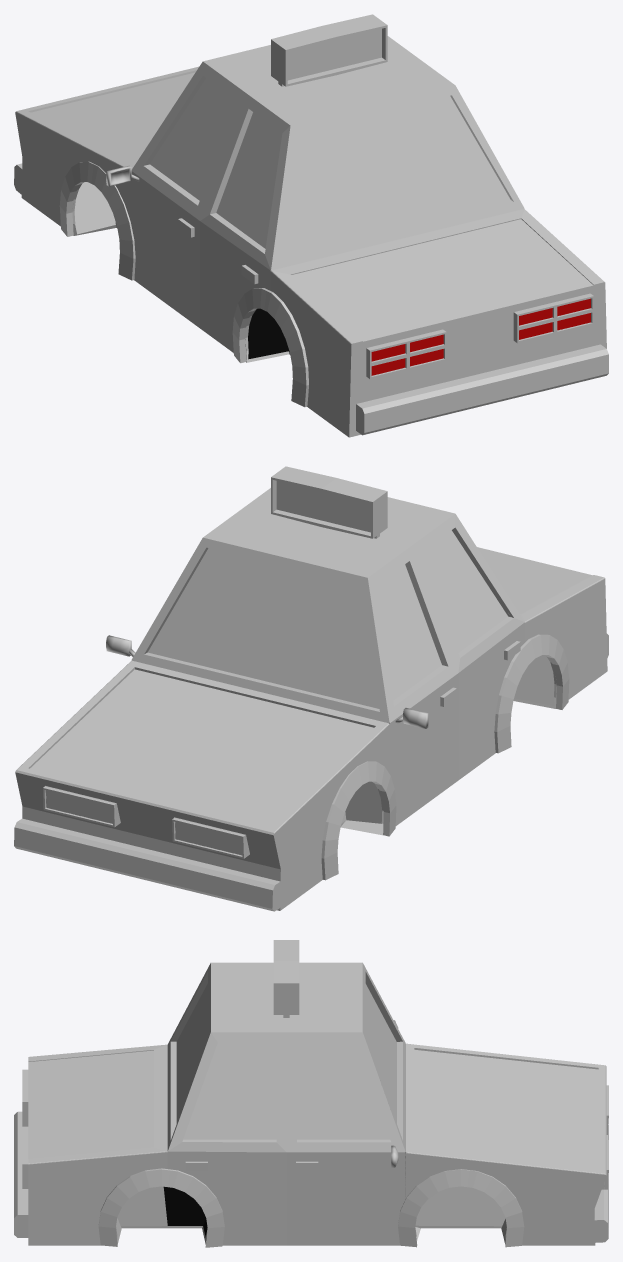
File: taxii.obj
3 renders of one model, top to bottom at view 1: azimuth 30°, elevation 25°; view 2: azimuth 150°, elevation 25°; view 3: azimuth 270°, elevation 25°, orthographic. The views are drawn at different scales.
Visible parts, largest first — view 1: Flaps; view 2: Flaps; view 3: Flaps.
Boxes of the visible parts, left/top/right/bottom form: Flaps: left=14, top=14, right=608, bottom=437; Flaps: left=14, top=466, right=608, bottom=911; Flaps: left=14, top=940, right=608, bottom=1247.
Size of the model in its own units: 4.94 by 3.93 by 9.21.
